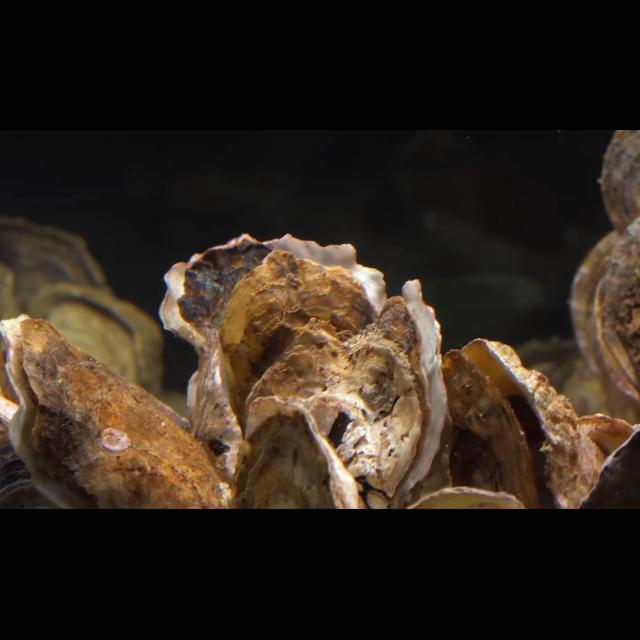Oyster-Closed: (248, 319, 427, 509), (221, 251, 379, 445), (0, 212, 112, 396), (570, 230, 640, 400)
Oyster-Open: (161, 232, 389, 484), (0, 310, 224, 510), (414, 337, 608, 511), (354, 278, 450, 510), (228, 390, 364, 510), (29, 283, 167, 401)
